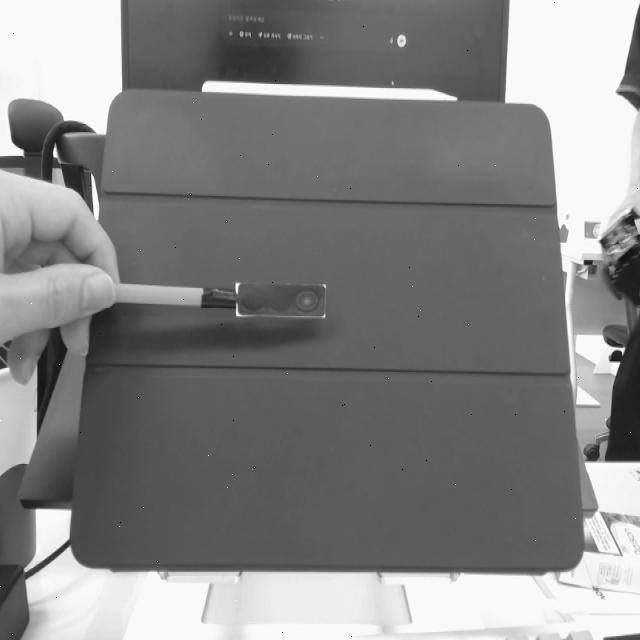traffic light: (229, 277, 337, 333)
